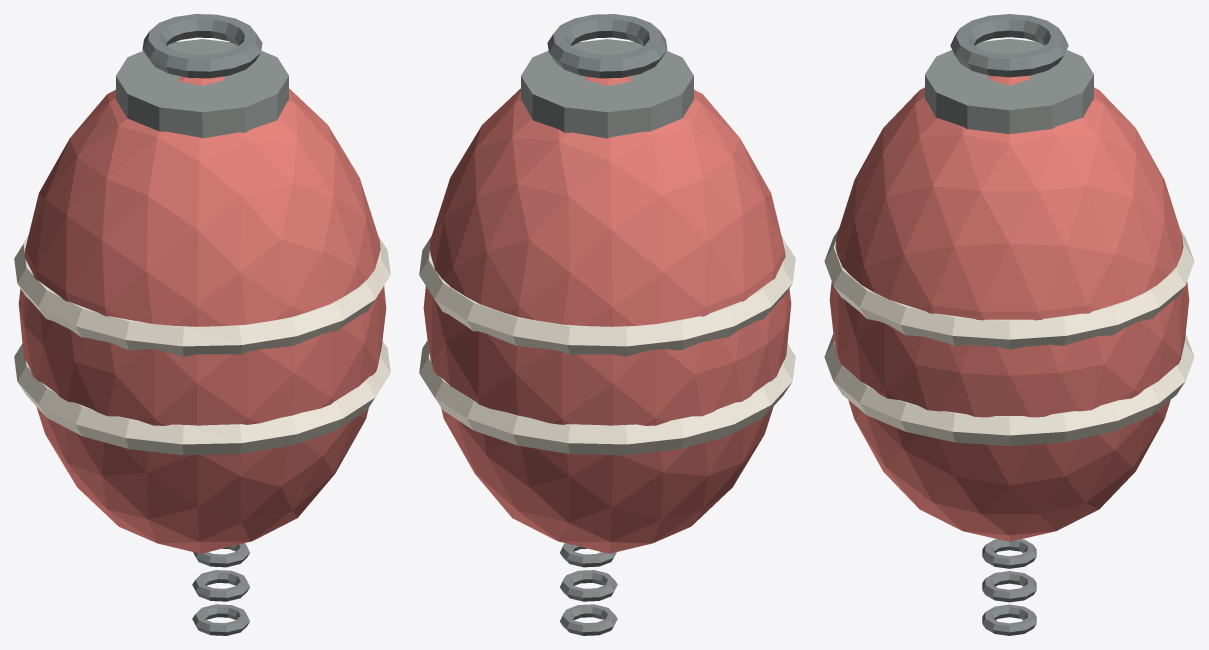
The model's file is buoy_red_white.glb.
The picture shows the model from 3 angles, left to right: view 1: azimuth 30°, elevation 25°; view 2: azimuth 150°, elevation 25°; view 3: azimuth 270°, elevation 25°; orthographic projection. The views are drawn at different scales.
Visible parts, largest first — view 1: Buoy_Float, Painted_White_Band_-0.1, Painted_White_Band_0.1, Top_Cap, Lifting_Eye, Mooring_Chain_Link_2, Mooring_Chain_Link_3, Mooring_Chain_Link_1; view 2: Buoy_Float, Painted_White_Band_-0.1, Painted_White_Band_0.1, Top_Cap, Lifting_Eye, Mooring_Chain_Link_2, Mooring_Chain_Link_3, Mooring_Chain_Link_1; view 3: Buoy_Float, Painted_White_Band_-0.1, Painted_White_Band_0.1, Top_Cap, Lifting_Eye, Mooring_Chain_Link_2, Mooring_Chain_Link_3, Mooring_Chain_Link_1.
Part boxes in pixels (x1,y1,x2,y2): Buoy_Float: (18,76,386,553); Painted_White_Band_-0.1: (14,340,390,455); Painted_White_Band_0.1: (14,236,390,356); Top_Cap: (116,39,288,138); Lifting_Eye: (142,14,262,78); Mooring_Chain_Link_2: (192,570,249,601); Mooring_Chain_Link_3: (192,604,249,635); Mooring_Chain_Link_1: (193,543,249,567); Buoy_Float: (423,76,791,553); Painted_White_Band_-0.1: (419,340,795,455); Painted_White_Band_0.1: (419,236,795,356); Top_Cap: (521,39,693,138); Lifting_Eye: (547,14,667,78); Mooring_Chain_Link_2: (560,570,617,601); Mooring_Chain_Link_3: (560,604,617,635); Mooring_Chain_Link_1: (560,543,616,567); Buoy_Float: (829,75,1189,541); Painted_White_Band_-0.1: (824,334,1194,445); Painted_White_Band_0.1: (824,229,1194,349); Top_Cap: (925,38,1093,134); Lifting_Eye: (950,14,1068,77); Mooring_Chain_Link_2: (982,571,1036,602); Mooring_Chain_Link_3: (982,604,1036,635); Mooring_Chain_Link_1: (982,539,1036,568).
Size of the model in its own units: 0.7 by 1.21 by 0.7.
